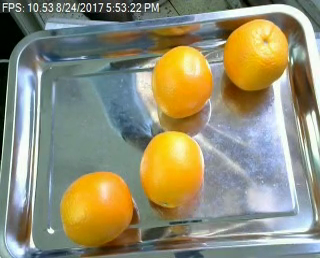Orange: (59, 170, 134, 247), (140, 131, 204, 209), (222, 17, 289, 90), (152, 45, 214, 117)
